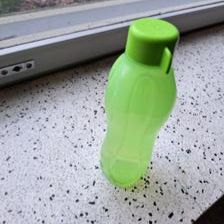bottle: (97, 13, 182, 191)
